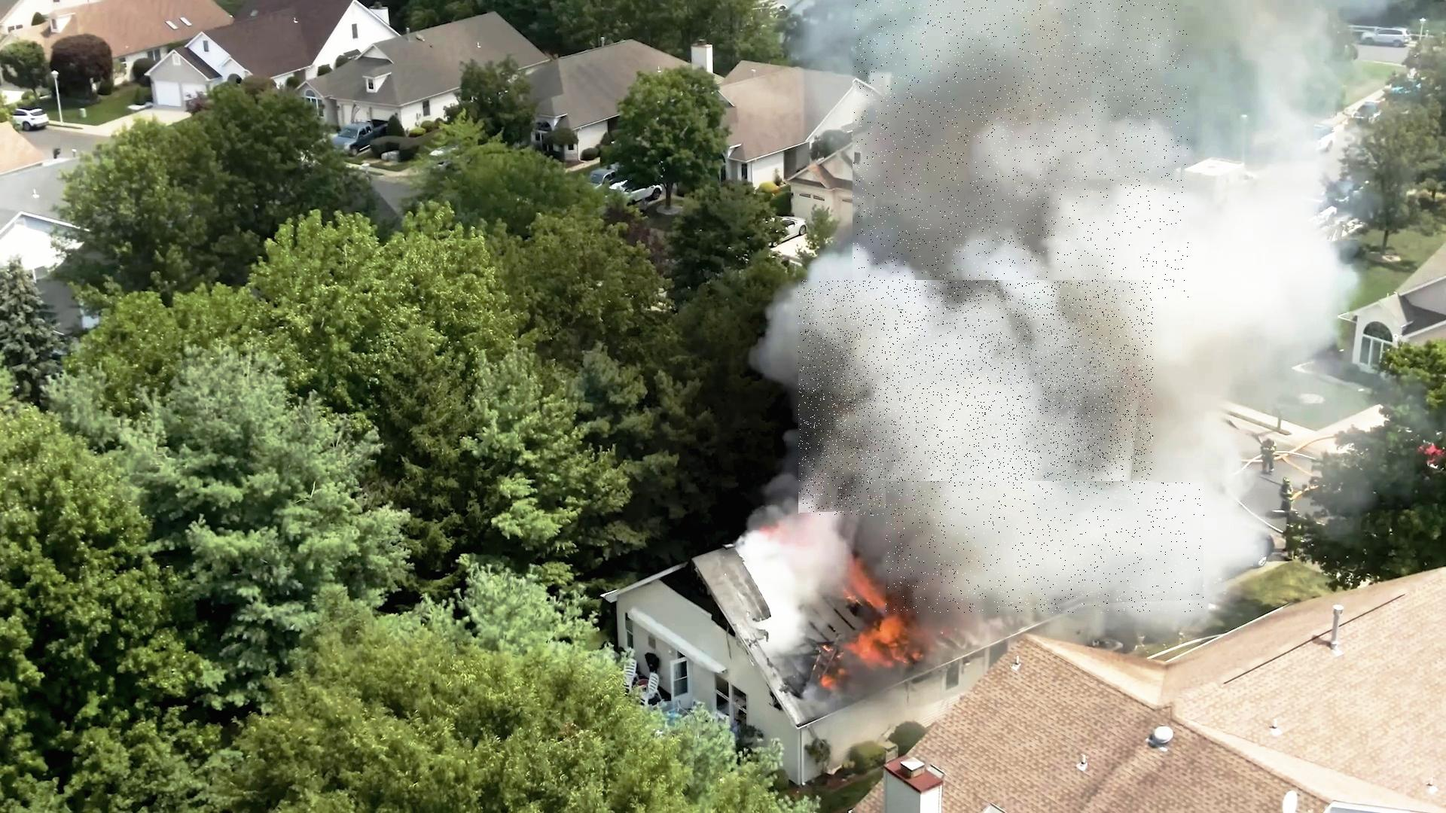smoke: (853, 0, 1188, 303), (798, 281, 1153, 516), (886, 483, 1206, 613)
